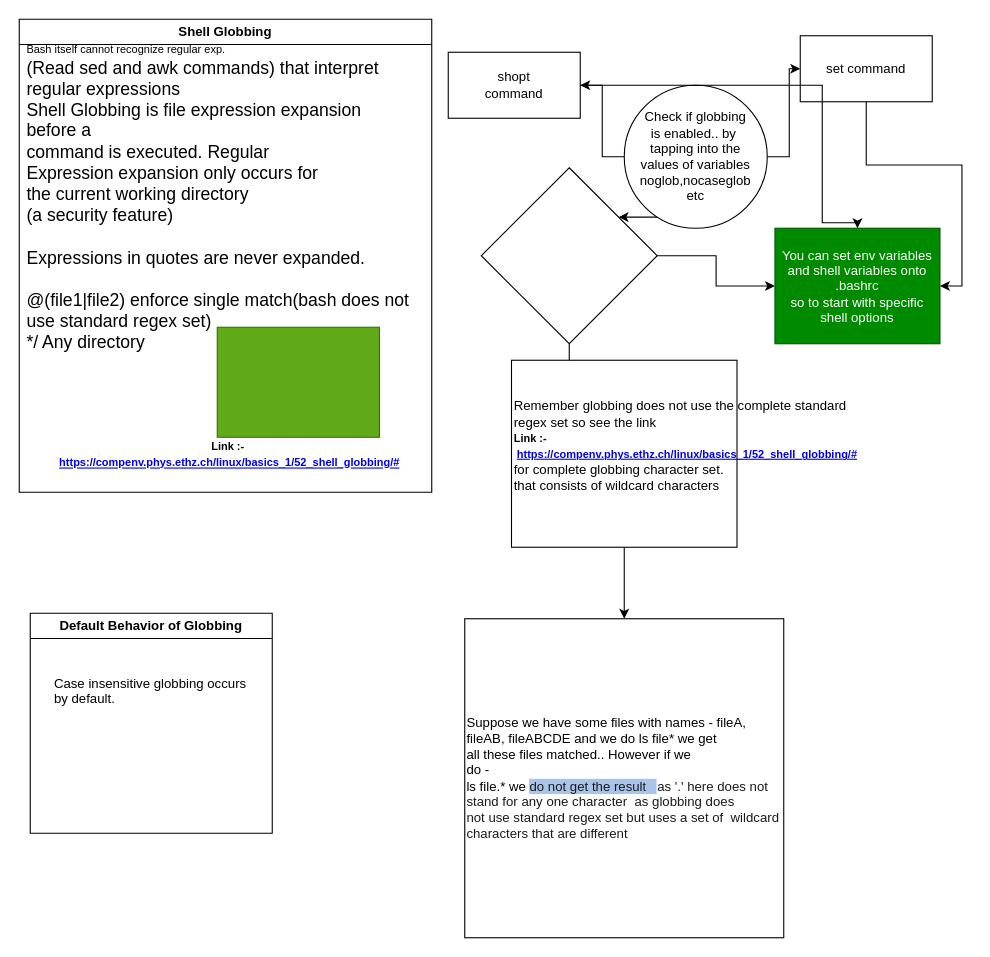
Some shapes in this 990 by 957 pixel diagram are drawn without their labels. Each missing label, with the centre of its shape:
See the $LANG (case sensitive globbing) variable is set or not set?: [568,255]
Use the set command to prevent globbing set -f noglob: [298,381]
